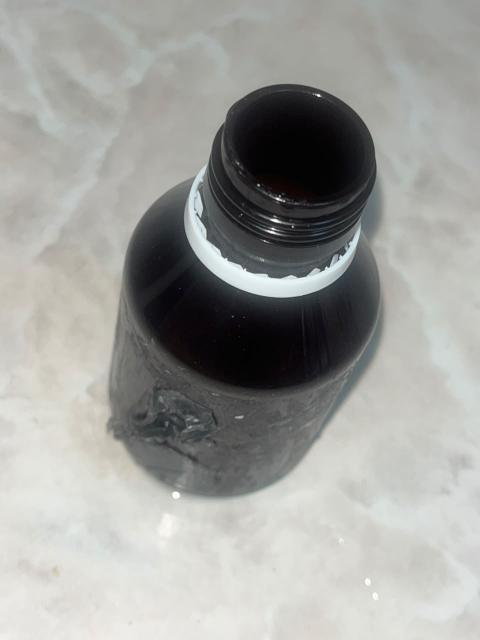HDPE: (95, 84, 399, 536)
